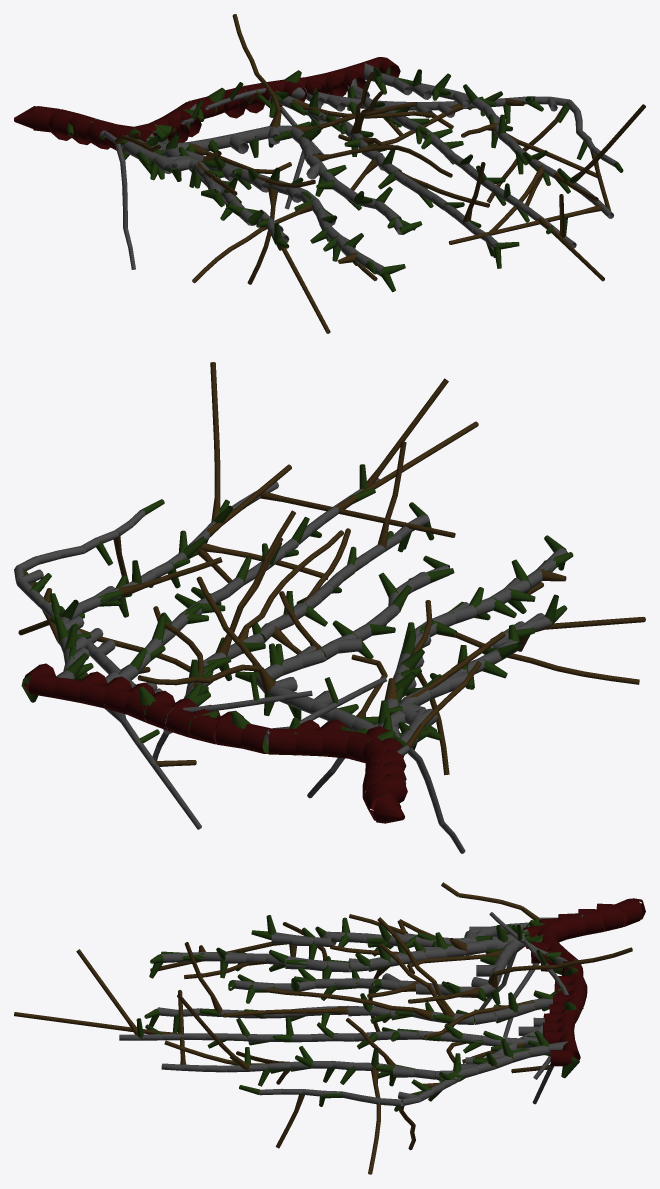
File: tree_2.obj
The picture shows the model from 3 angles, top to bottom: view 1: azimuth 30°, elevation 25°; view 2: azimuth 150°, elevation 25°; view 3: azimuth 270°, elevation 25°; orthographic projection. The views are drawn at different scales.
Size of the model in its own units: 23.46 by 9.78 by 29.32.
